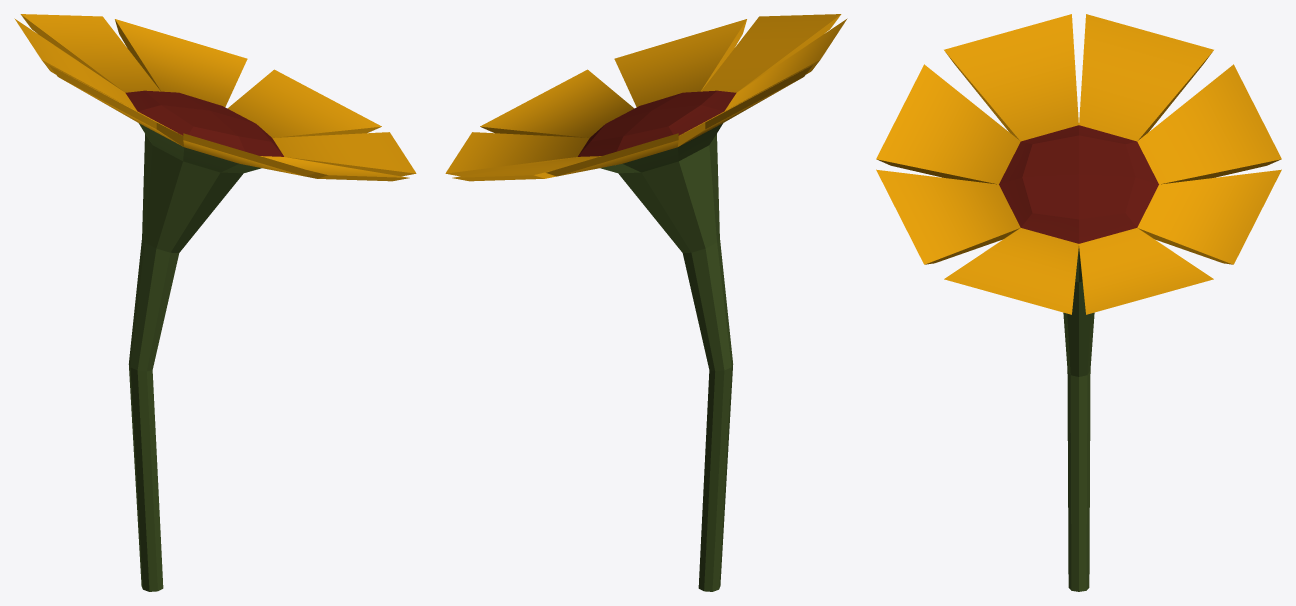
File: Flower1.fbx
3 renders of one model, left to right at view 1: azimuth 30°, elevation 25°; view 2: azimuth 150°, elevation 25°; view 3: azimuth 270°, elevation 25°, orthographic. The views are drawn at different scales.
Visible parts, largest first — view 1: Flower1; view 2: Flower1; view 3: Flower1.
Boxes of the visible parts, bbox=[...] form: Flower1: bbox=[14, 14, 416, 591]; Flower1: bbox=[445, 14, 847, 591]; Flower1: bbox=[876, 14, 1281, 591].
Size of the model in its own units: 20.34 by 31.43 by 22.08.
